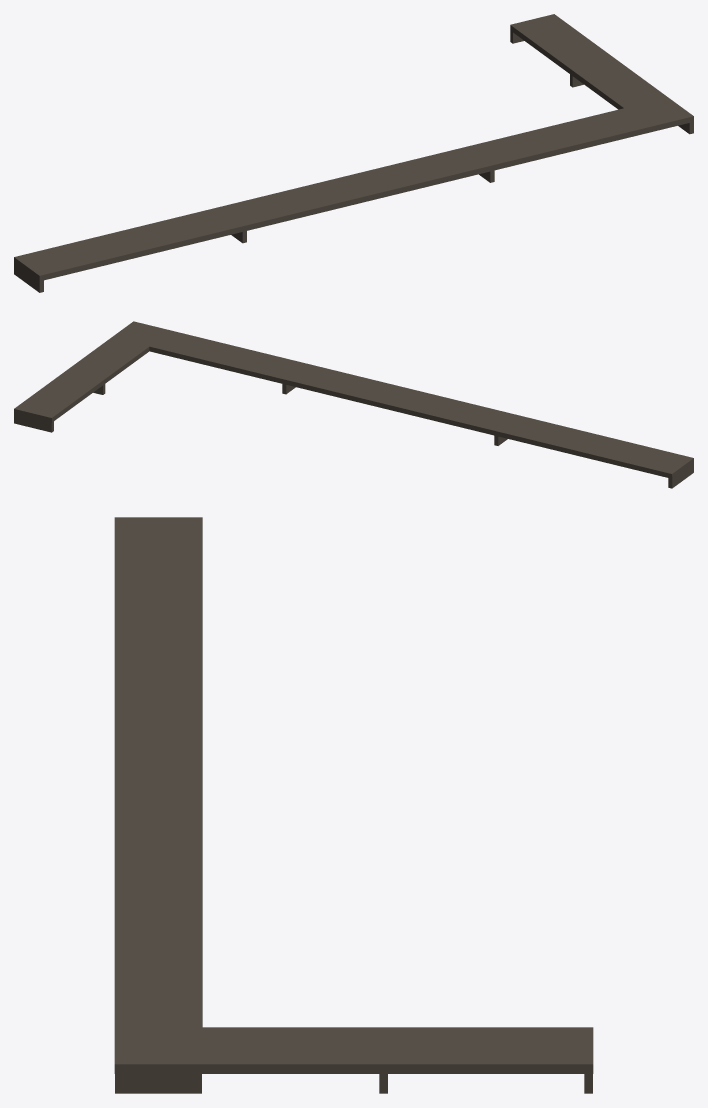
The model's file is WoodenFlooring_01.fbx.
3 views of the same model, one above another, from view 1: azimuth 30°, elevation 25°; view 2: azimuth 150°, elevation 25°; view 3: azimuth 270°, elevation 25° (orthographic). The views are drawn at different scales.
Visible parts, largest first — view 1: WoodenFlooring_01; view 2: WoodenFlooring_01; view 3: WoodenFlooring_01.
Part boxes in pixels (x1,y1,x2,y2): WoodenFlooring_01: [14, 14, 693, 292]; WoodenFlooring_01: [14, 321, 693, 488]; WoodenFlooring_01: [114, 517, 593, 1093].
Size of the model in its own units: 3864 by 96.52 by 1428.
